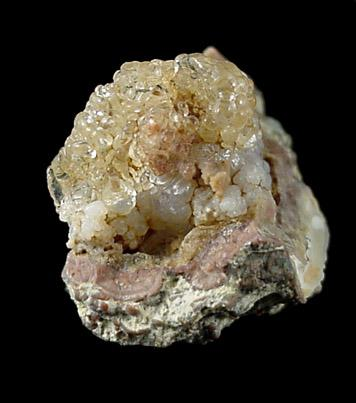opal: (47, 53, 276, 254)
